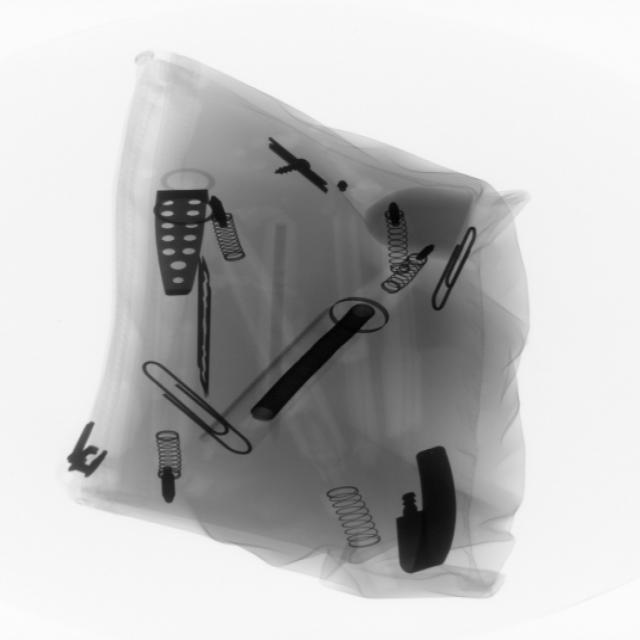SHURIKEN: (186, 252, 225, 397)
